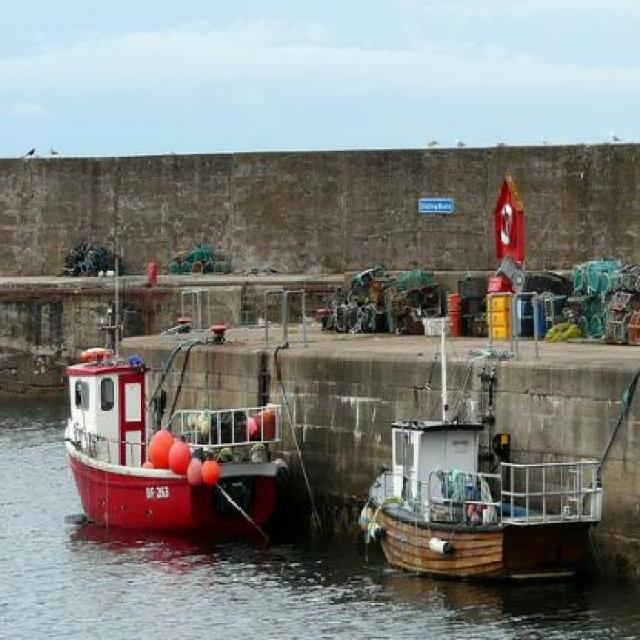ship: (51, 320, 294, 546), (361, 393, 608, 593)
